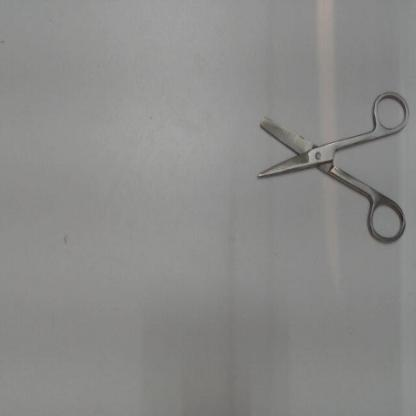Dressing Scissors: (246, 84, 414, 255)
